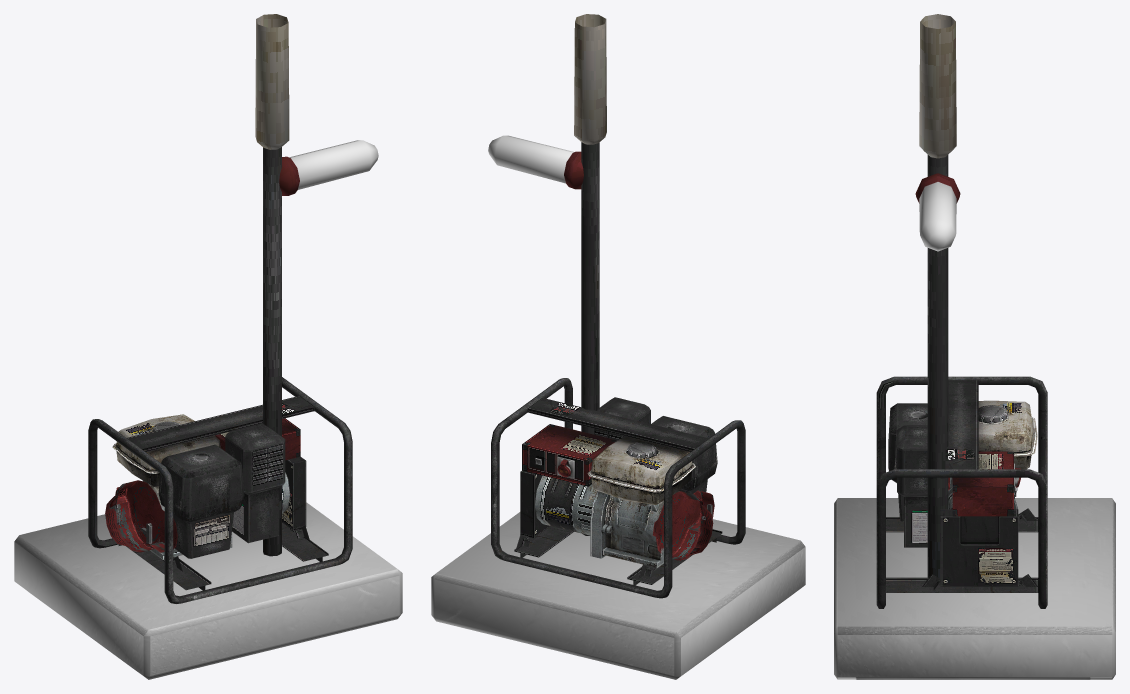
File: generator.glb
3 views of the same model, side by side, from view 1: azimuth 30°, elevation 25°; view 2: azimuth 150°, elevation 25°; view 3: azimuth 270°, elevation 25° (orthographic). The views are drawn at different scales.
Visible parts, largest first — view 1: StyrofoamBase, Generator, Pole, LightBulb, LightBase; view 2: StyrofoamBase, Generator, Pole, LightBulb, LightBase; view 3: StyrofoamBase, Generator, Pole, LightBulb, LightBase.
Part boxes in pixels (<box>): StyrofoamBase: <box>14,502,402,679</box>; Generator: <box>88,377,352,603</box>; Pole: <box>255,14,289,556</box>; LightBulb: <box>289,140,378,189</box>; LightBase: <box>279,156,299,195</box>; StyrofoamBase: <box>431,512,805,679</box>; Generator: <box>491,378,745,598</box>; Pole: <box>574,14,606,535</box>; LightBulb: <box>488,135,574,183</box>; LightBase: <box>564,151,583,189</box>; StyrofoamBase: <box>834,498,1115,679</box>; Generator: <box>876,376,1047,608</box>; Pole: <box>919,14,956,578</box>; LightBulb: <box>919,182,956,251</box>; LightBase: <box>915,173,960,203</box>.
Bounding box in the file's own units: 1.47 × 2.93 × 1.21.
Materials: 2 (2 with a texture image).
